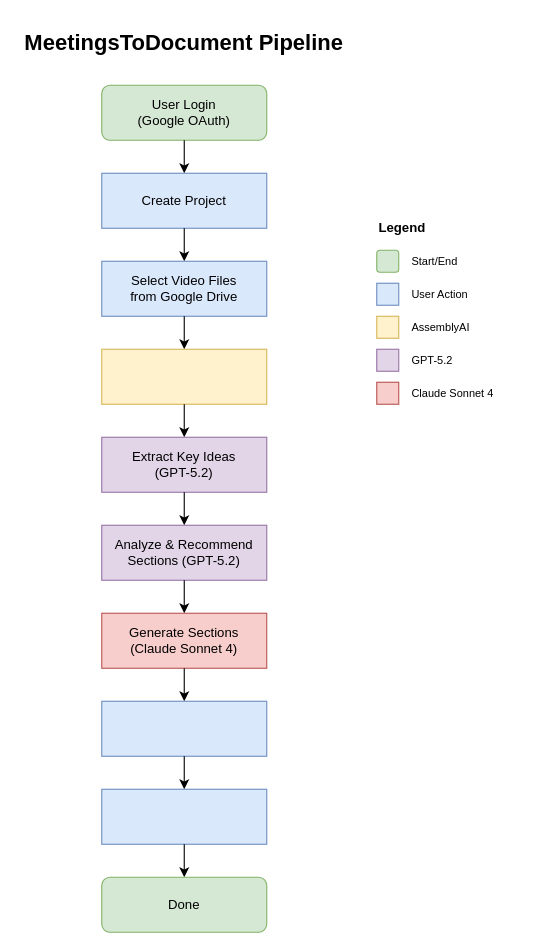
Some shapes in this 538 by 952 pixel diagram are drawn without their labels. Each missing label, with the centre of its shape:
Assemble Document: the point at 184,728
Export to Google Docs: the point at 184,816
Transcribe Audio (AssemblyAI): the point at 184,376
